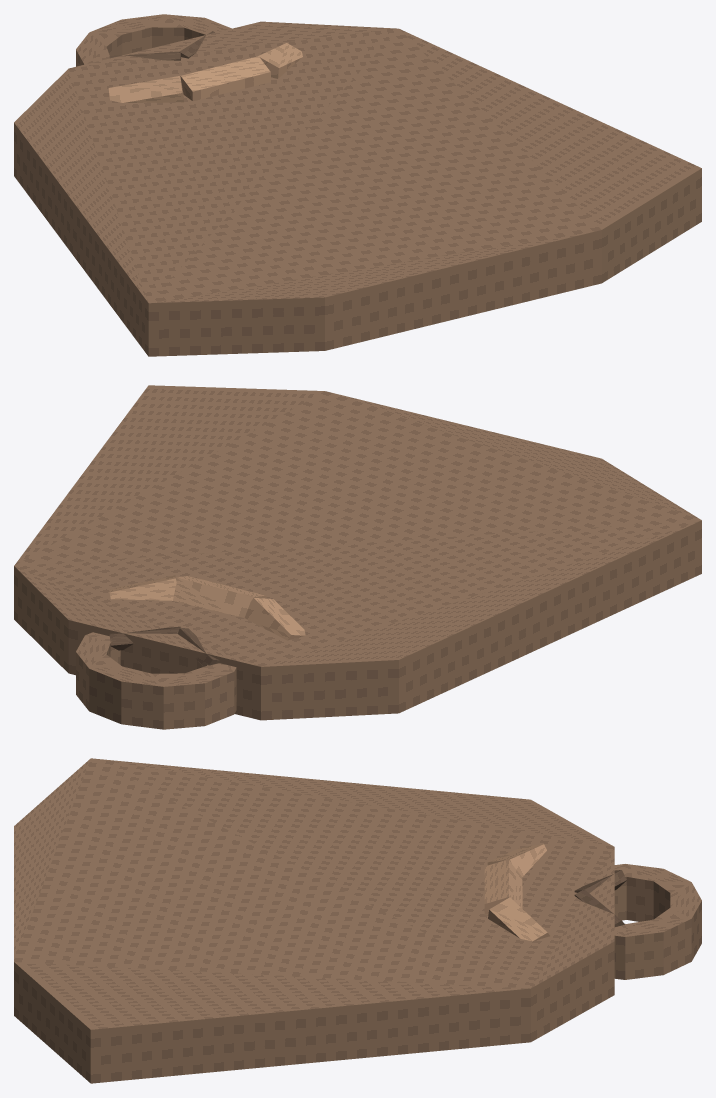
Rendered from cloak_fur.glb.
3 views of the same model, one above another, from view 1: azimuth 30°, elevation 25°; view 2: azimuth 150°, elevation 25°; view 3: azimuth 270°, elevation 25° (orthographic).
Parts seen in each view (by area): view 1: block_draped cape, block_folded hood, block_thick fur collar 1, block_thick fur collar 0, block_thick fur collar 2; view 2: block_draped cape, block_folded hood, block_thick fur collar 1, block_thick fur collar 0, block_thick fur collar 2, block_hood facing 1; view 3: block_draped cape, block_folded hood, block_thick fur collar 1, block_thick fur collar 2, block_thick fur collar 0.
Boxes of the visible parts, <box> form: block_draped cape: <box>14,21,701,356</box>; block_folded hood: <box>76,14,231,66</box>; block_thick fur collar 1: <box>180,56,270,100</box>; block_thick fur collar 0: <box>108,76,183,102</box>; block_thick fur collar 2: <box>258,43,302,78</box>; block_draped cape: <box>14,385,701,720</box>; block_folded hood: <box>76,632,236,729</box>; block_thick fur collar 1: <box>173,576,266,617</box>; block_thick fur collar 0: <box>244,598,305,640</box>; block_thick fur collar 2: <box>109,575,176,600</box>; block_hood facing 1: <box>109,626,180,650</box>; block_draped cape: <box>14,758,614,1083</box>; block_folded hood: <box>614,864,701,979</box>; block_thick fur collar 1: <box>484,859,522,914</box>; block_thick fur collar 2: <box>488,897,549,941</box>; block_thick fur collar 0: <box>487,844,546,877</box>.
Bounding box in the file's own units: 0.7043 × 0.0861 × 0.754.
Materials: 1 (1 with a texture image).
